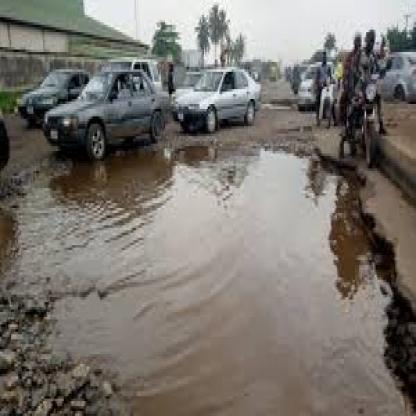car: (40, 62, 172, 163), (169, 54, 263, 145), (12, 56, 113, 132), (374, 48, 416, 110), (297, 52, 338, 110)
